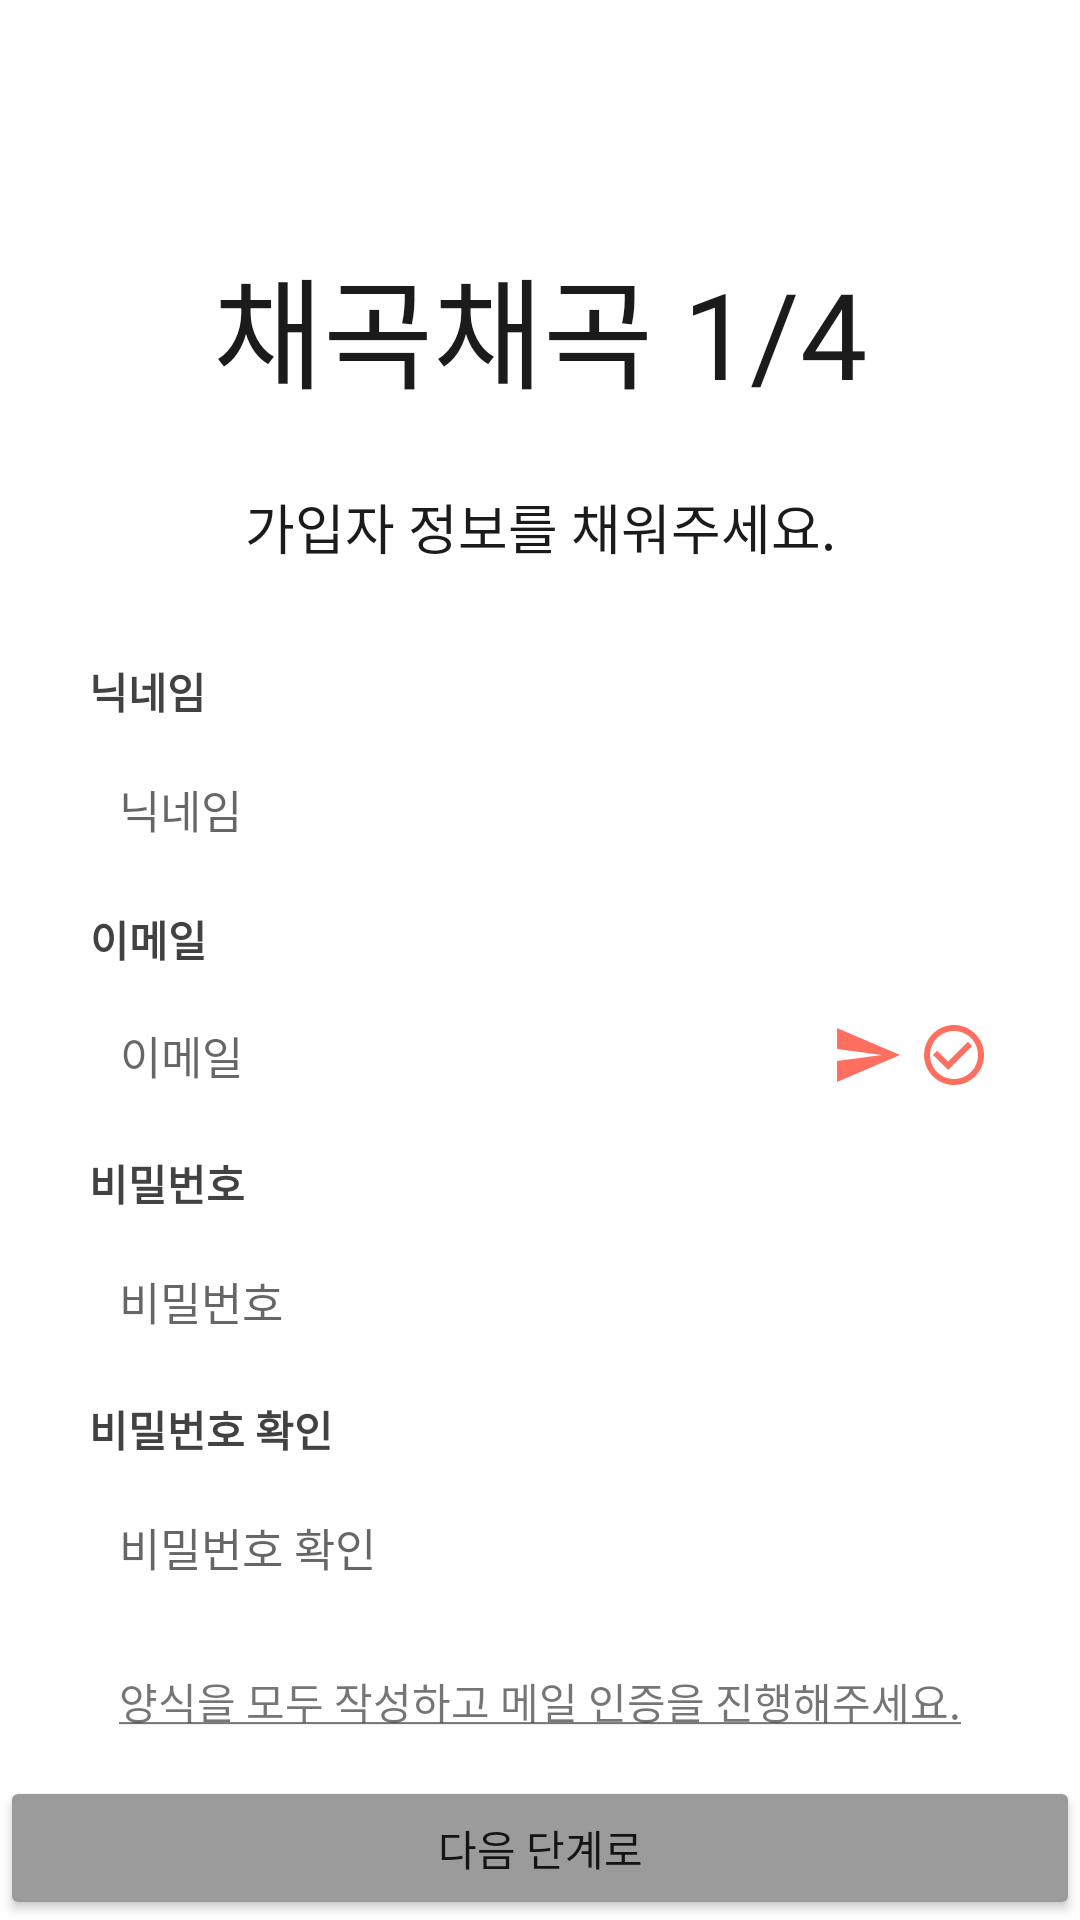

Icon click points for this 1080px×1920px phone screenshot, format [x,y]:
verify send: [868,1055]
